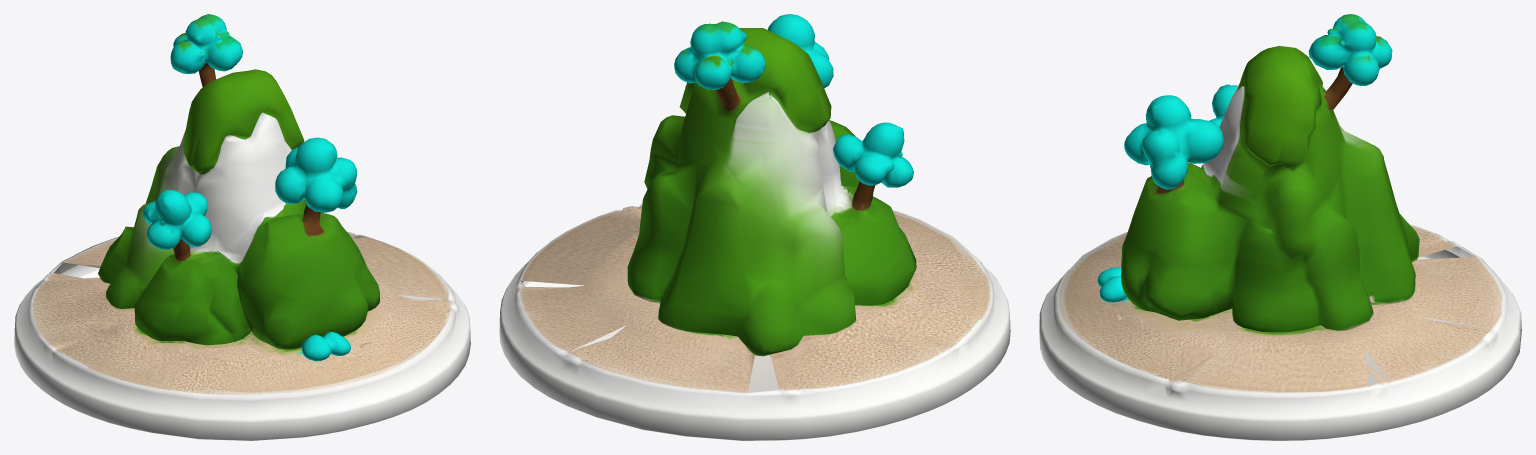
The model's file is viet-envi-2.glb.
3 views of the same model, side by side, from view 1: azimuth 30°, elevation 25°; view 2: azimuth 150°, elevation 25°; view 3: azimuth 270°, elevation 25° (orthographic). The views are drawn at different scales.
Visible parts, largest first — view 1: tripo_node_03c72e9f-a33b-4ba2-8b82-e2b5a418fa78; view 2: tripo_node_03c72e9f-a33b-4ba2-8b82-e2b5a418fa78; view 3: tripo_node_03c72e9f-a33b-4ba2-8b82-e2b5a418fa78.
Part boxes in pixels (box(x1,y1,x2,y2)): tripo_node_03c72e9f-a33b-4ba2-8b82-e2b5a418fa78: box(14, 14, 470, 440); tripo_node_03c72e9f-a33b-4ba2-8b82-e2b5a418fa78: box(499, 14, 1010, 440); tripo_node_03c72e9f-a33b-4ba2-8b82-e2b5a418fa78: box(1039, 14, 1521, 440).
Bounding box in the file's own units: 0.9995 × 0.7319 × 0.9985.
Materials: 1 (1 with a texture image).
